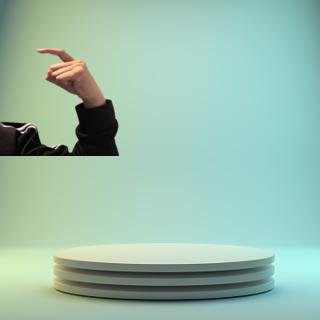WHY: (32, 43, 104, 103)
